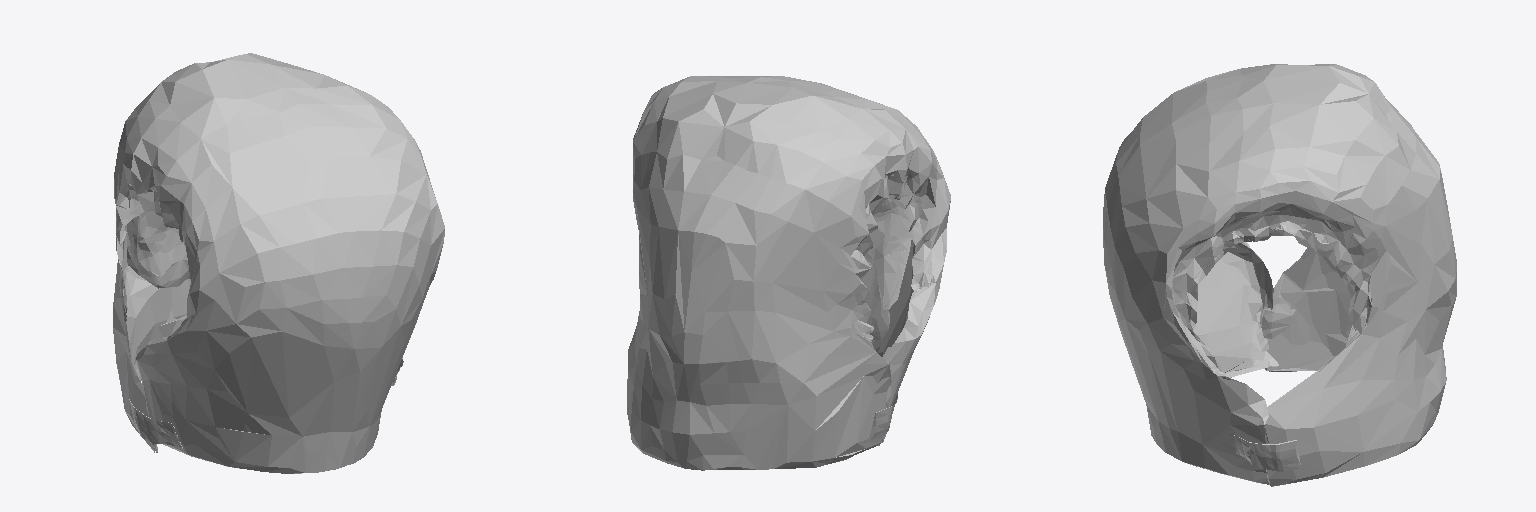
The model's file is pony-diaper.obj.
3 renders of one model, left to right at view 1: azimuth 30°, elevation 25°; view 2: azimuth 150°, elevation 25°; view 3: azimuth 270°, elevation 25°, orthographic.
Visible parts, largest first — view 1: _SMD_root_.003, _SMD_root_.001, _SMD_root_; view 2: _SMD_root_.003, _SMD_root_.001, _SMD_root_; view 3: _SMD_root_.003, _SMD_root_.001, _SMD_root_.002.
Boxes of the visible parts, x1=… form: _SMD_root_.003: x1=113, y1=76, x2=444, y2=473; _SMD_root_.001: x1=123, y1=53, x2=371, y2=240; _SMD_root_: x1=129, y1=399, x2=183, y2=449; _SMD_root_.003: x1=627, y1=76, x2=950, y2=470; _SMD_root_.001: x1=635, y1=76, x2=862, y2=209; _SMD_root_: x1=869, y1=393, x2=897, y2=440; _SMD_root_.003: x1=1103, y1=69, x2=1456, y2=486; _SMD_root_.001: x1=1206, y1=64, x2=1415, y2=203; _SMD_root_.002: x1=1230, y1=434, x2=1300, y2=471.
Size of the model in its own units: 0.1339 by 0.1652 by 0.1509.